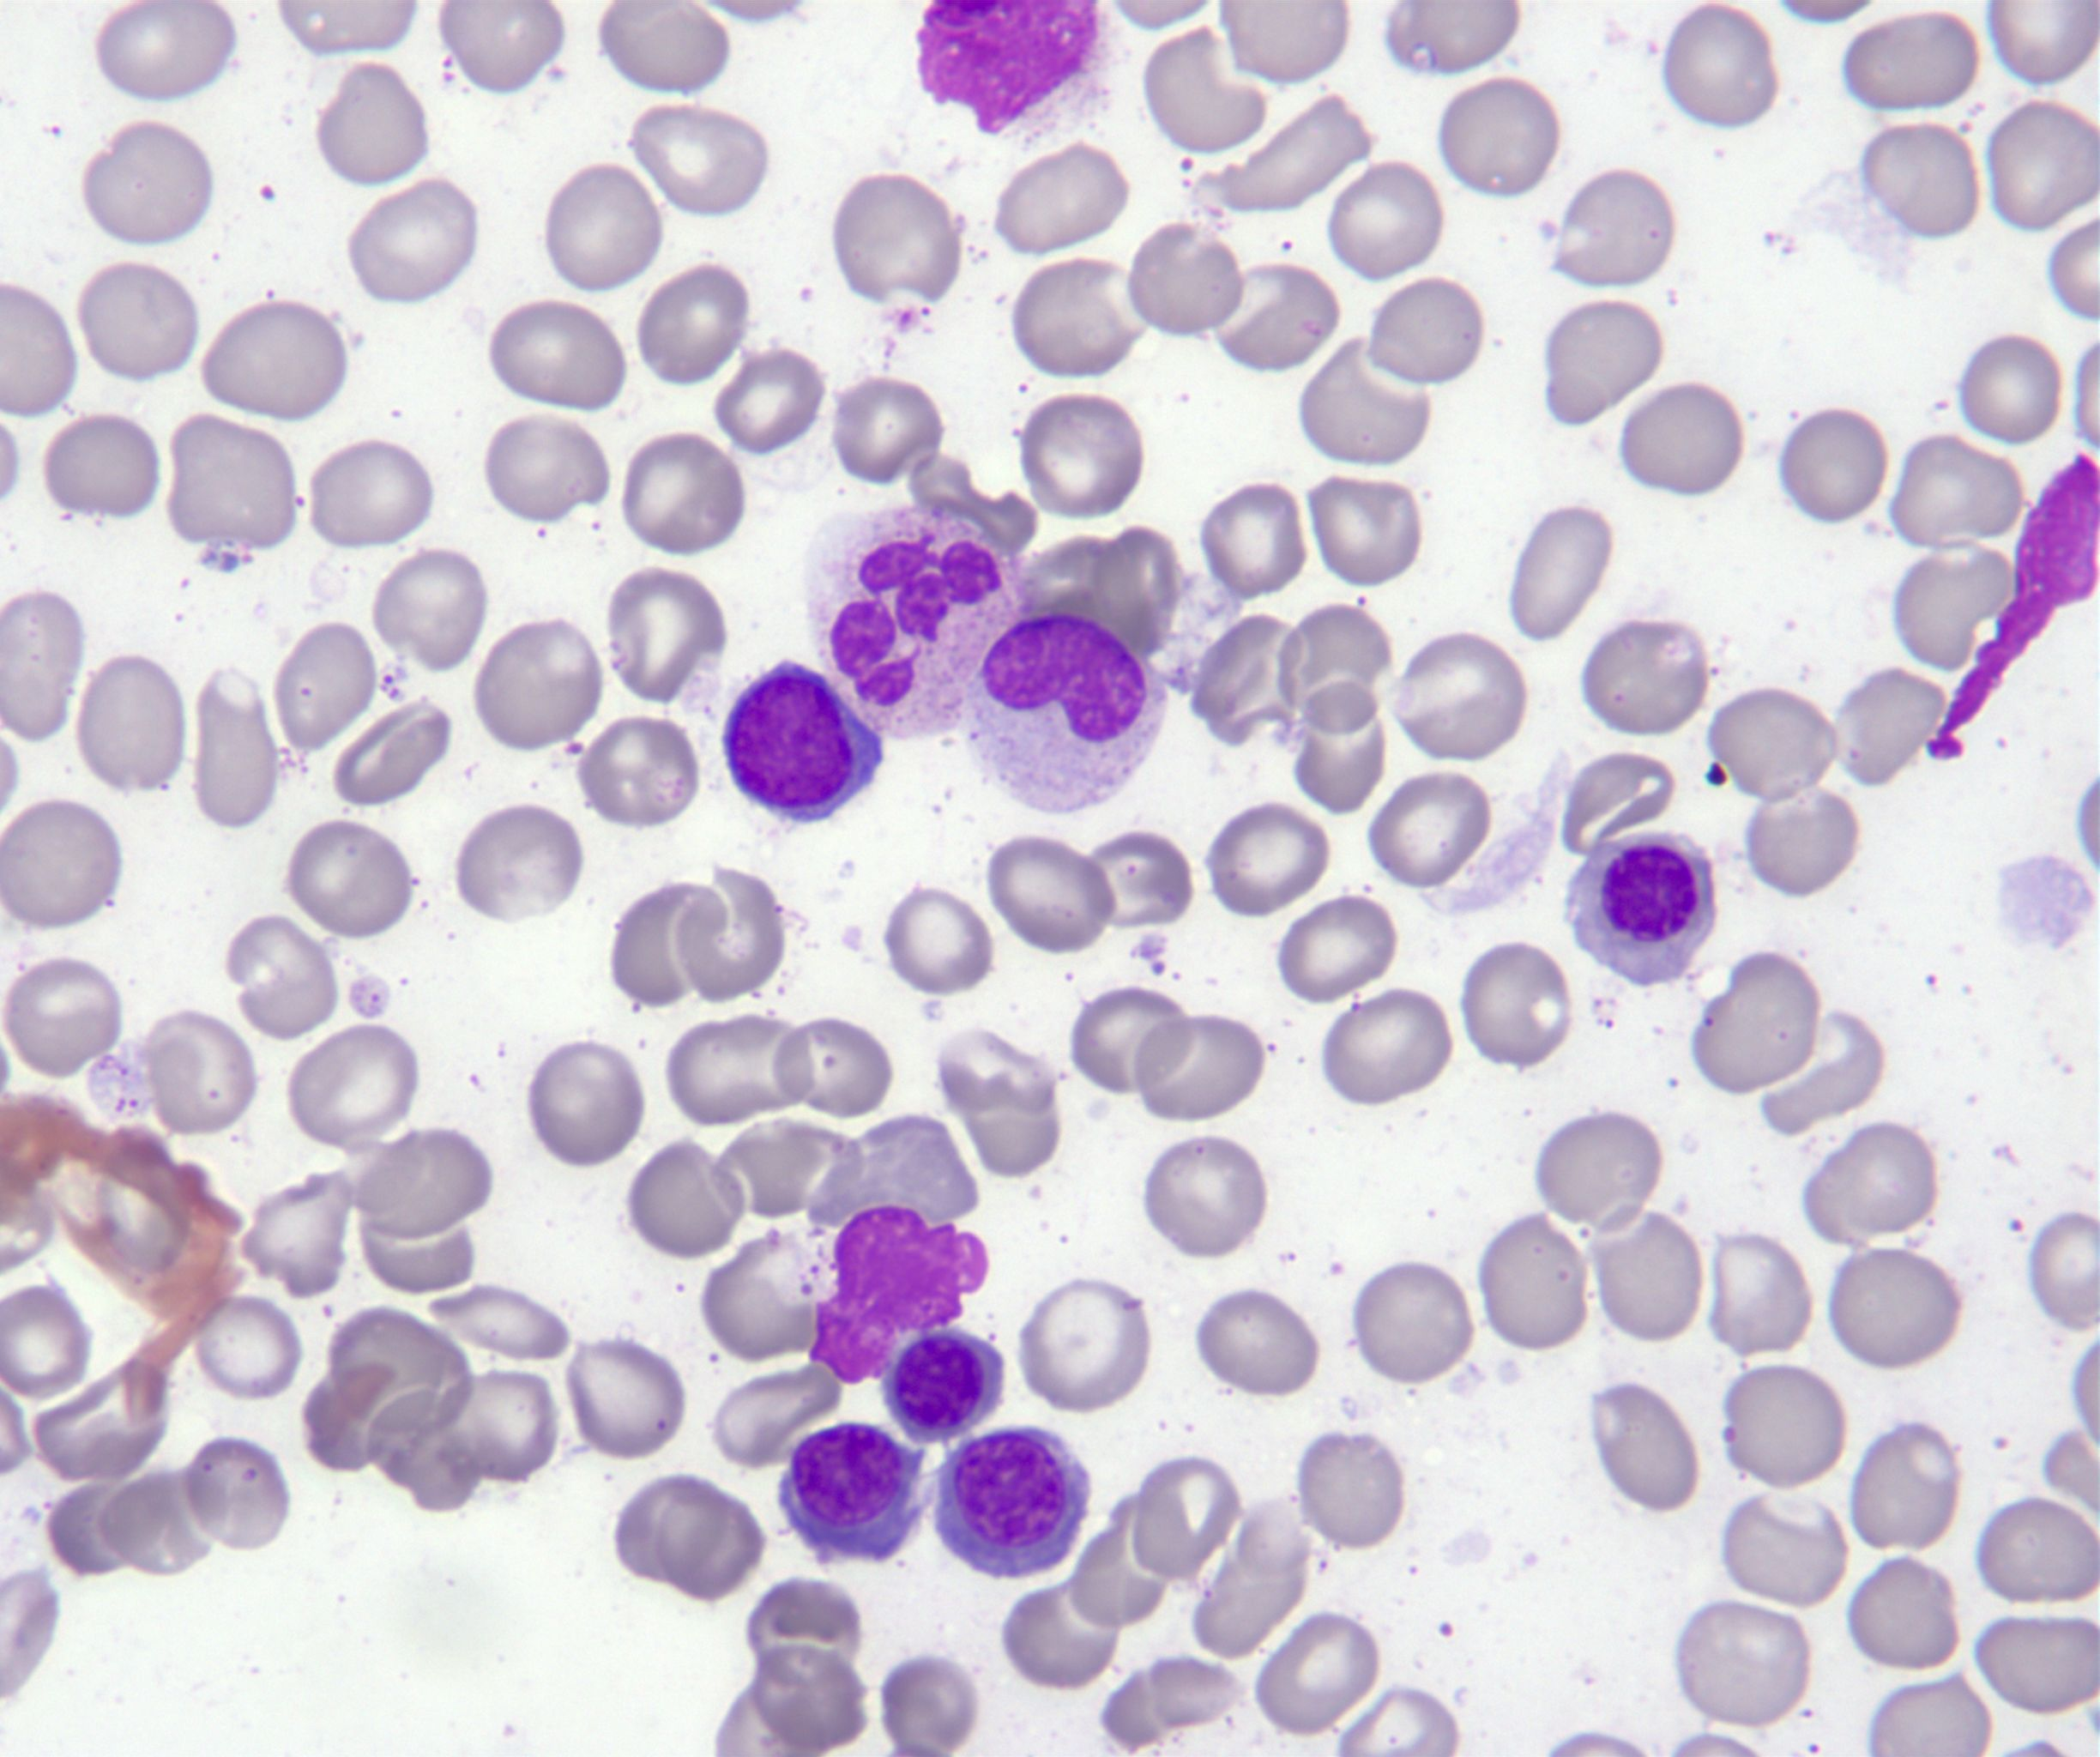23: (933, 1427, 1090, 1579), (780, 1424, 923, 1565), (883, 1326, 1005, 1448)
24: (1568, 831, 1716, 988)
32: (724, 661, 883, 824)
4: (970, 616, 1165, 815)
6: (802, 504, 1031, 742)
x: (1926, 452, 2100, 757), (809, 1206, 991, 1385), (916, 0, 1101, 138)
